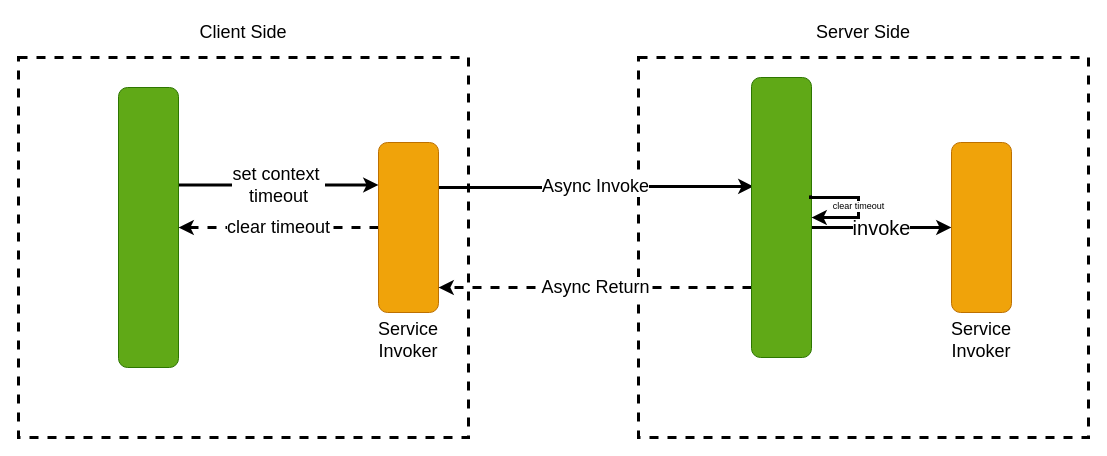
Some shapes in this 1107 by 456 pixel diagram are drawn without their labels. Here are the shapes that lost their labels. From the top down, the centre of each, then its label:
point 148,227: DynamicDubboTimeoutFilter
point 781,217: ApacheDubboOnlineDebugFilter
